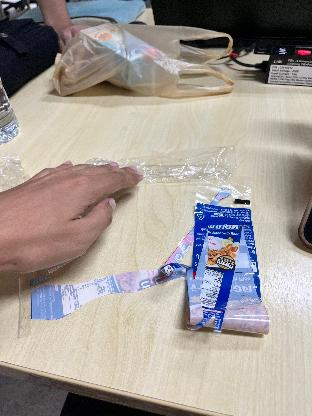Others: (163, 184, 272, 348), (82, 133, 247, 191)
